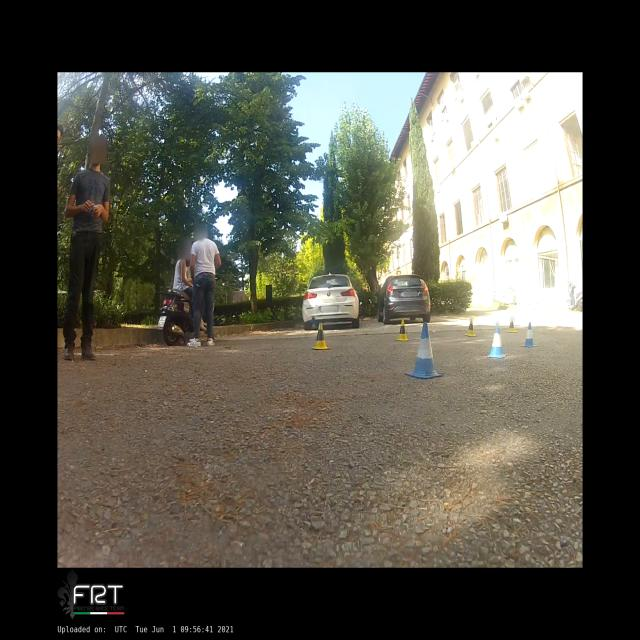blue_cone: (404, 322, 442, 378), (487, 323, 506, 358), (522, 322, 538, 347)
yellow_cone: (311, 322, 331, 350), (395, 319, 410, 341), (465, 318, 477, 336), (507, 317, 517, 333)
